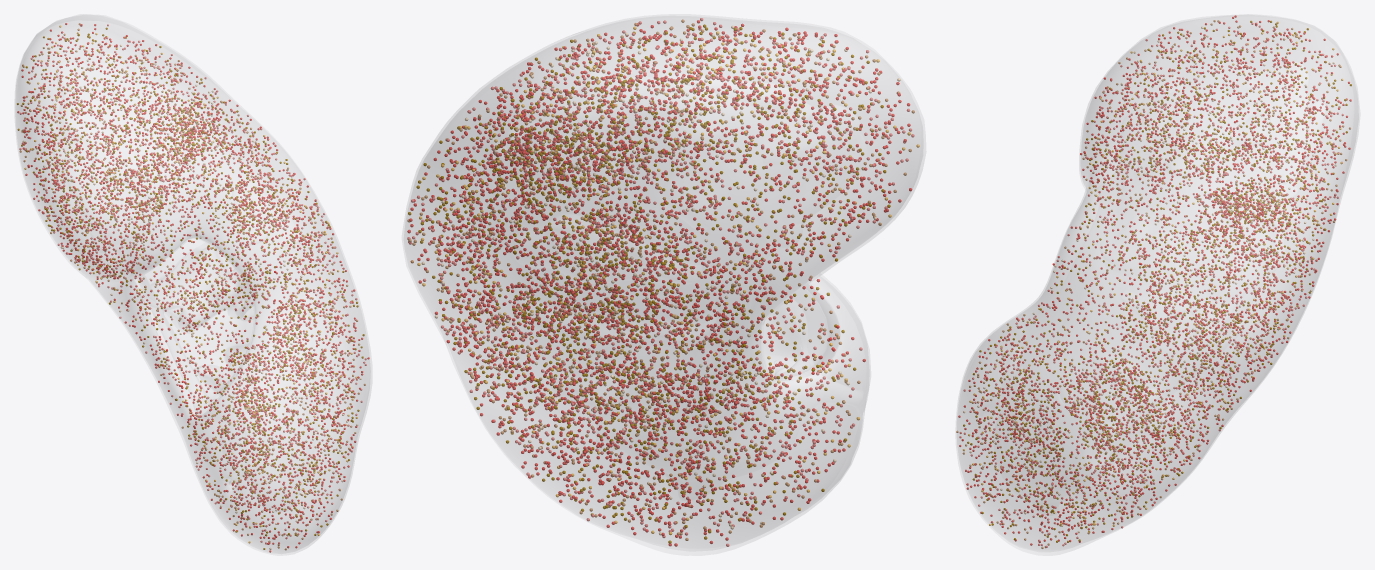
Rendered from 3d-vh-m-kidney-l-UBERON_0004538-all-as-pan-human-azimuth-sphere-hra-pop.glb.
3 views of the same model, side by side, from view 1: azimuth 30°, elevation 25°; view 2: azimuth 150°, elevation 25°; view 3: azimuth 270°, elevation 25° (orthographic). The views are drawn at different scales.
Parts seen in each view (by area): view 1: VH_M_kidney_capsule_L, VH_M_outer_cortex_of_kidney_L, VH_M_hilum_of_kidney_L, VH_M_renal_column_L, VH_M_renal_pyramid_L_f; view 2: VH_M_kidney_capsule_L, VH_M_outer_cortex_of_kidney_L, VH_M_hilum_of_kidney_L; view 3: VH_M_kidney_capsule_L, VH_M_outer_cortex_of_kidney_L.
Part boxes in pixels (box(x1,y1,x2,y2)): VH_M_kidney_capsule_L: box(15, 14, 371, 555); VH_M_outer_cortex_of_kidney_L: box(17, 21, 368, 553); VH_M_hilum_of_kidney_L: box(137, 237, 247, 415); VH_M_renal_column_L: box(168, 239, 252, 376); VH_M_renal_pyramid_L_f: box(141, 278, 252, 332); VH_M_kidney_capsule_L: box(402, 14, 925, 555); VH_M_outer_cortex_of_kidney_L: box(405, 18, 920, 547); VH_M_hilum_of_kidney_L: box(762, 288, 828, 379); VH_M_kidney_capsule_L: box(956, 14, 1359, 555); VH_M_outer_cortex_of_kidney_L: box(957, 17, 1353, 549).
Size of the model in its own units: 0.0757 by 0.1065 by 0.0824.
